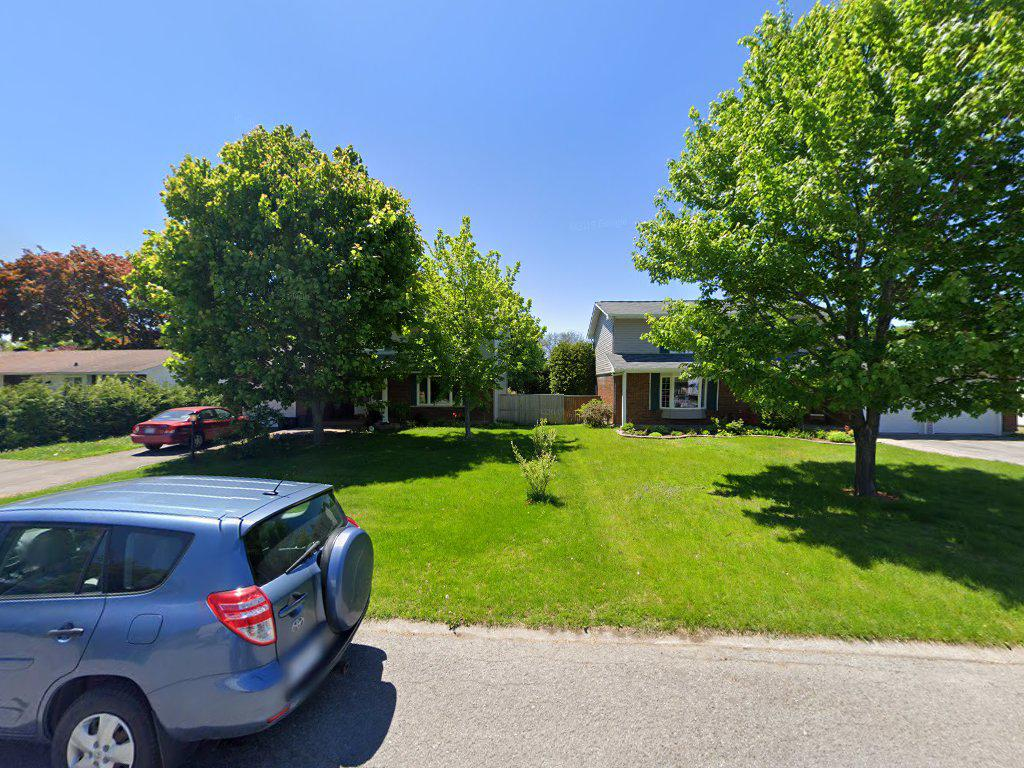trunk: (849, 391, 883, 517)
